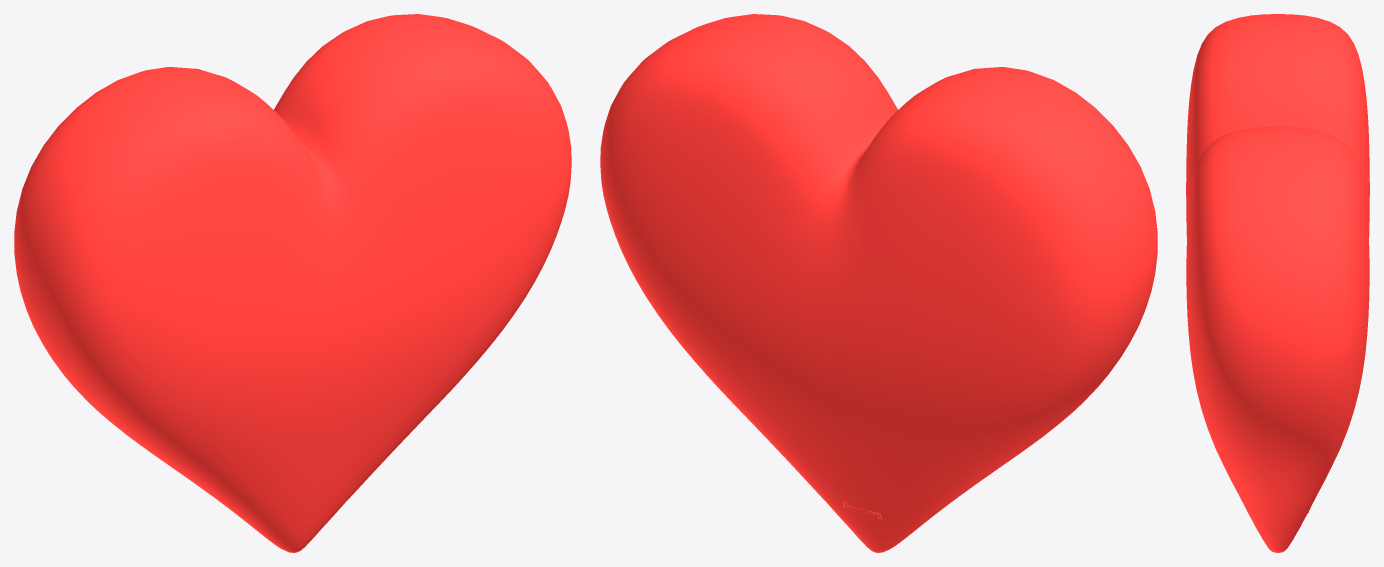
The model's file is red_heart.gltf.
3 renders of one model, left to right at view 1: azimuth 30°, elevation 25°; view 2: azimuth 150°, elevation 25°; view 3: azimuth 270°, elevation 25°, orthographic. The views are drawn at different scales.
Parts seen in each view (by area): view 1: hfdjkslfjkds.018; view 2: hfdjkslfjkds.018; view 3: hfdjkslfjkds.018.
Part boxes in pixels (box(x1,y1,x2,y2)): hfdjkslfjkds.018: box(14, 14, 571, 552); hfdjkslfjkds.018: box(600, 14, 1157, 552); hfdjkslfjkds.018: box(1186, 14, 1369, 552).
Bounding box in the file's own units: 1.86 × 1.68 × 0.5956.
1 material, 1 textured.
